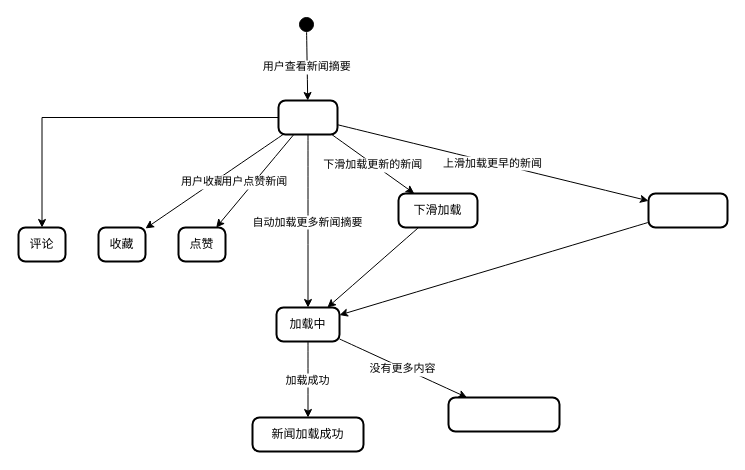
Some shapes in this 745 by 470 pixel diagram are drawn without their labels. Here are the shapes that lost their labels. From the top down, the centre of each, then its label:
point (307, 117): 浏览中
point (687, 210): 上滑加载
point (503, 414): 没有更多新闻
